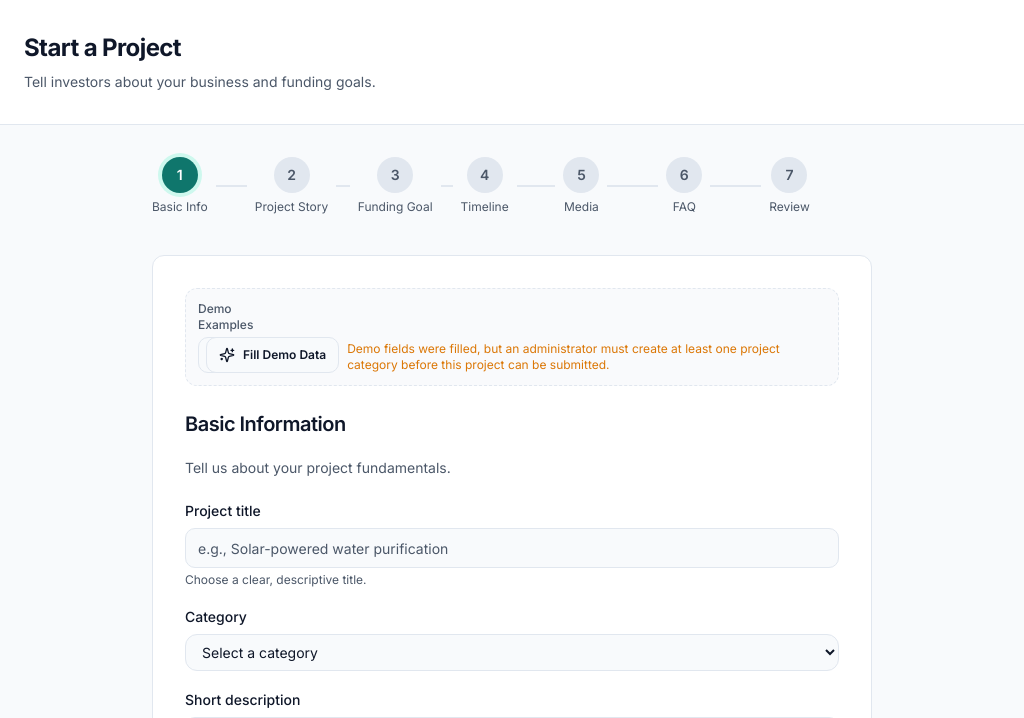
Test: still fills demo fields when the clean database has no categories
This screenshot has width=1024, height=718.
Click the button "Fill Demo Data".
click(273, 355)  # box [206,337,339,373]
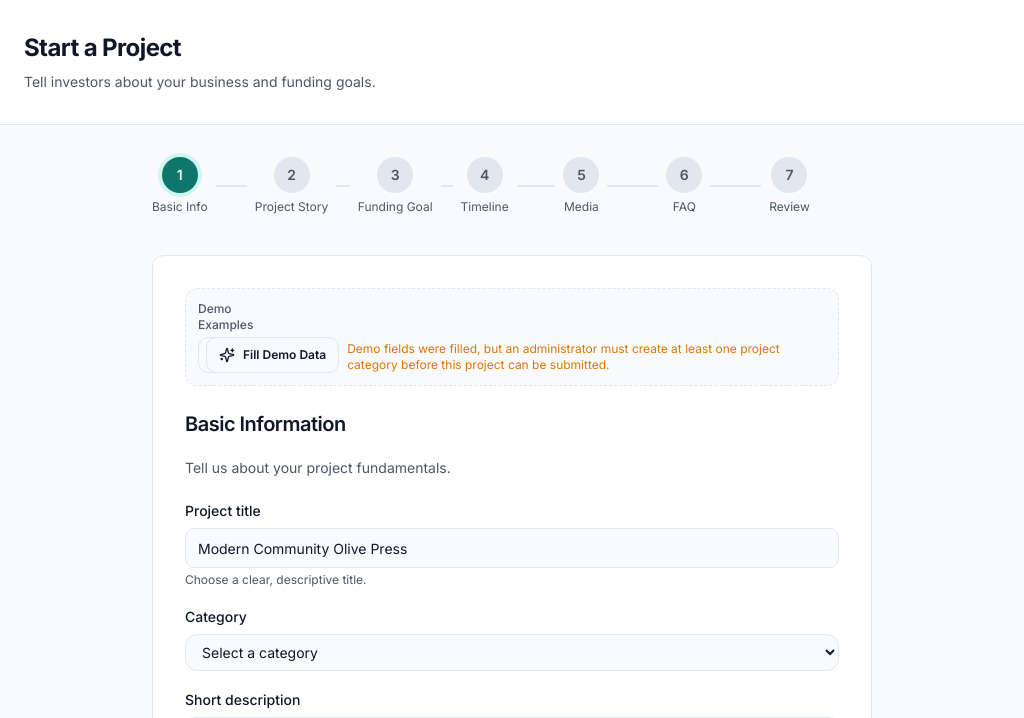
Expected: the dropdown labelled "Category" shows "Select a category", [185,634,839,671]
Result: the field labelled "Project title" holds "Modern Community Olive Press" at [185,528,839,568]
